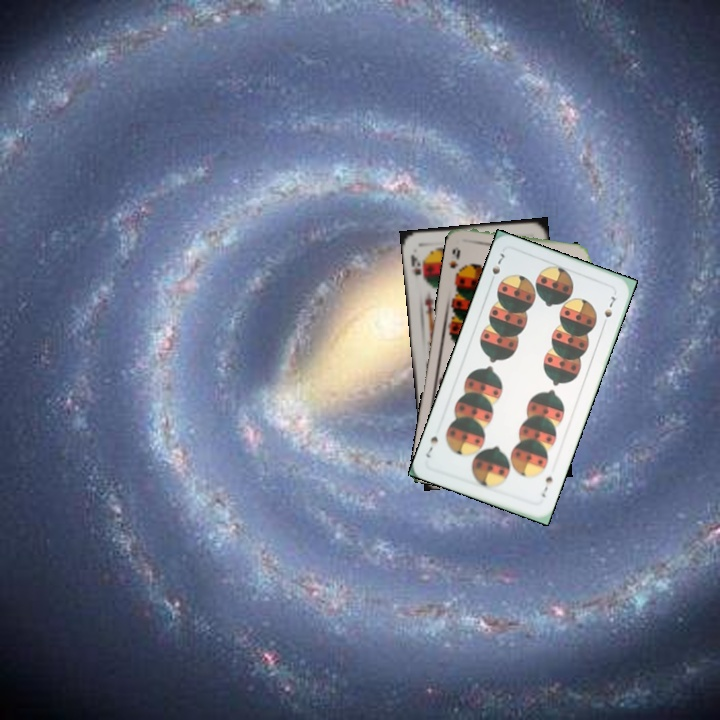S7: (488, 249, 507, 277), (537, 472, 555, 500)
S9: (445, 243, 465, 281)
SK: (407, 250, 423, 278)
